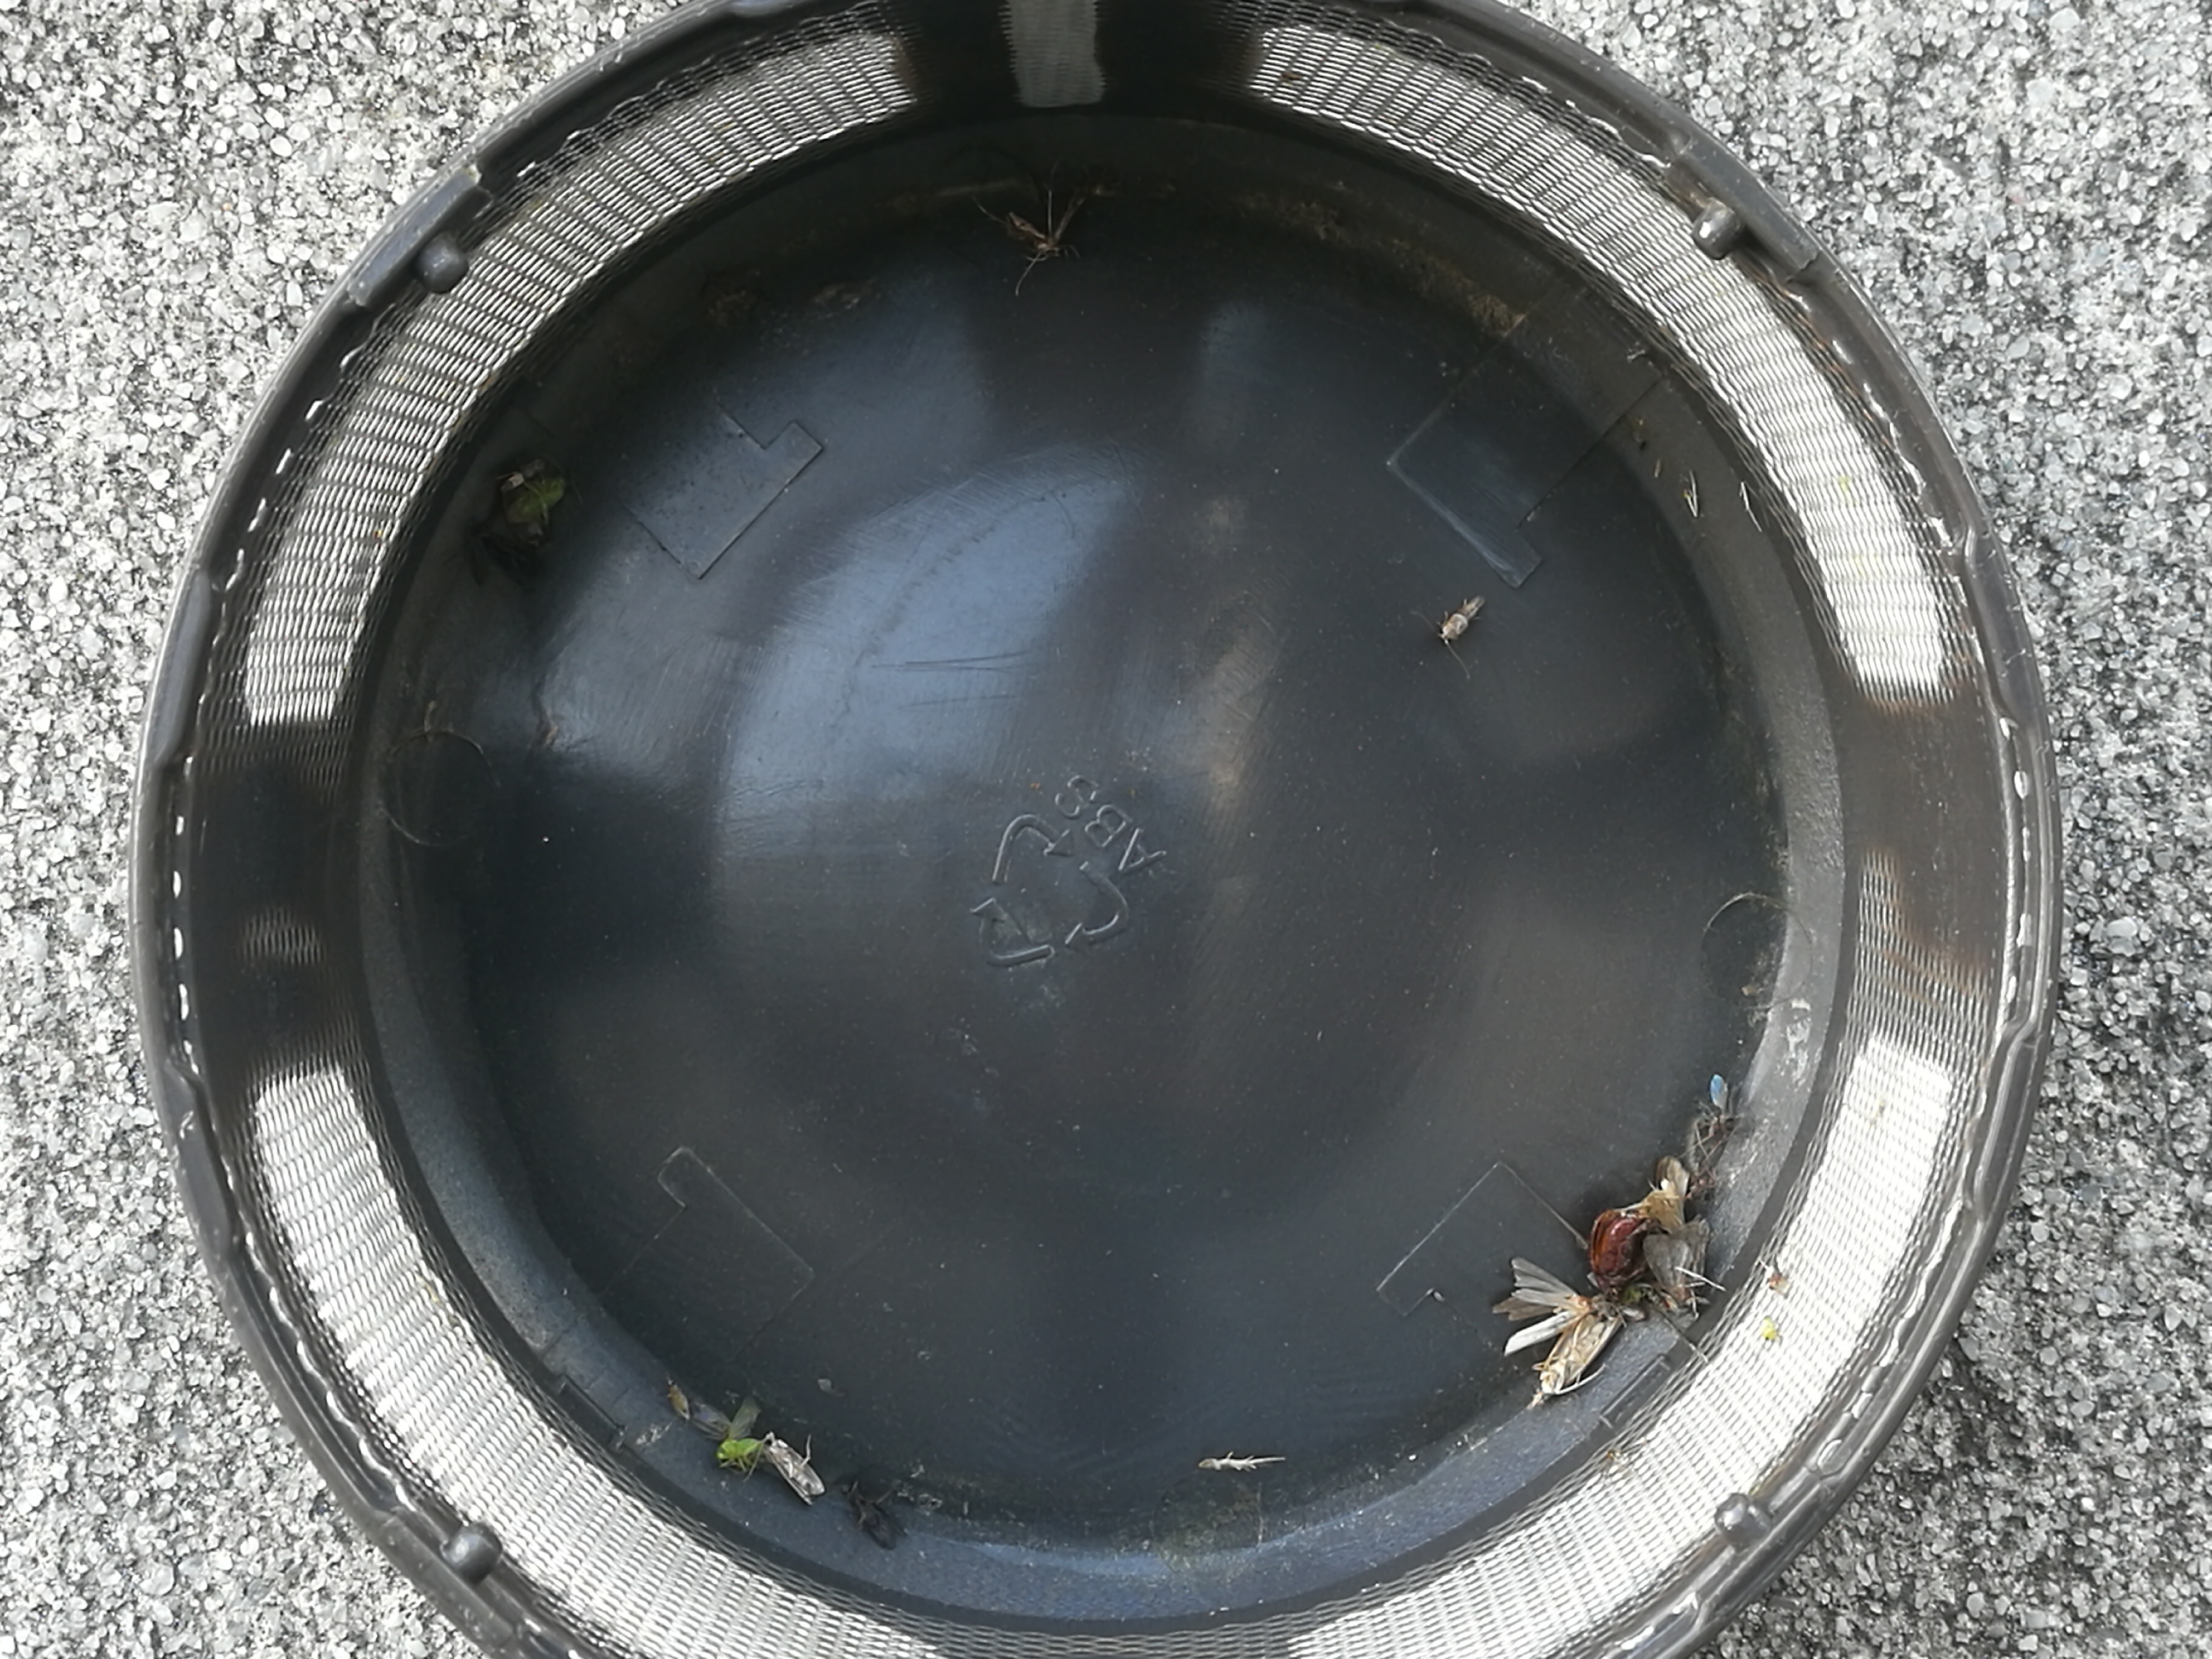beetle: (1590, 1211, 1639, 1298)
mosquito: (1534, 1317, 1618, 1401), (759, 1432, 824, 1502), (1648, 1155, 1689, 1234), (1440, 596, 1477, 643)
moth: (1493, 1256, 1590, 1358), (1644, 1220, 1707, 1317)
